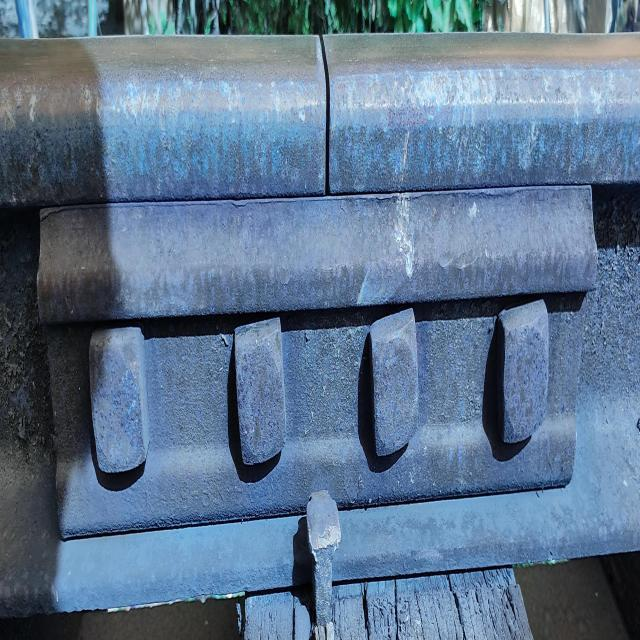Good Fasteners: (307, 490, 341, 640)
Good Joint: (33, 180, 598, 530)
